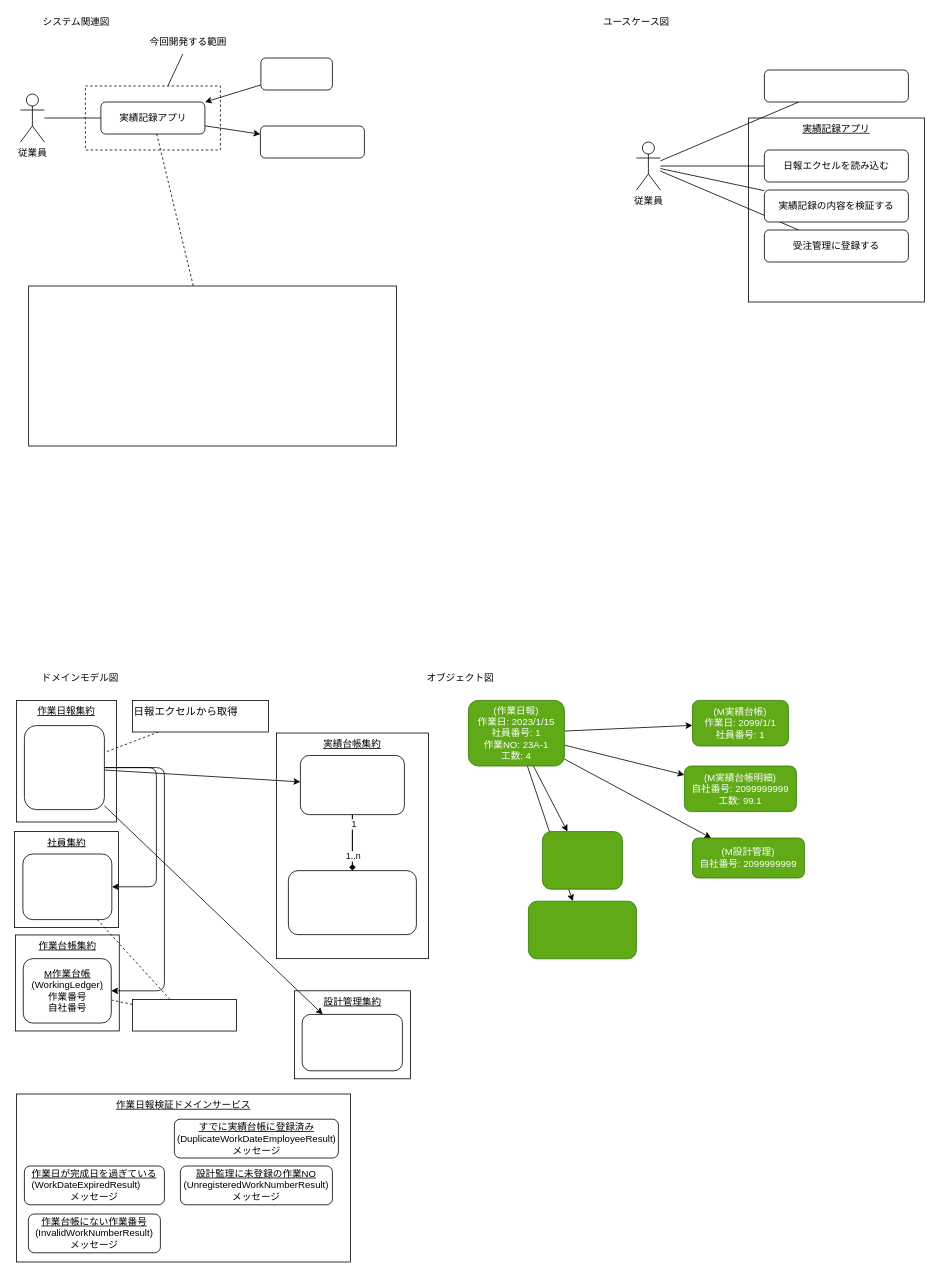
This 938x1276 diagram has some shape labels left out. Each missing label, with the centre of its shape:
"(M作業台帳) 作業番号: 99X-1 自社番号: 2099999999" belongs at (582,929).
"(S社員) 社員番号: 1 部署ID: 1 実績工程ID: 1" belongs at (582,860).
"M実績台帳 (AchievementLedger ) 作業日 社員番号" belongs at (352,785).
"M実績台帳明細 (AchievementDetail ) 自社番号 工数" belongs at (352,902).
"M設計管理 ( DesignManagement ) 自社番号" belongs at (351,1042).
"S社員 ( Employee ) 社員番号 部署ID 実績工程ID" belongs at (67,886).
"クエリ用のモデル" belongs at (184,1015).
"作業日報 ( WorkRecord ) 作業日 社員番号 作業NO 工数" belongs at (64,767).
"受注管理データベース" belongs at (312,141).
"日報エクセル" belongs at (296,73).
"日報エクセルを作成する" belongs at (836,85).
"解決したい課題 ・日報の登録に受注管理(桐)が必要 ・実績取込機能は、Excel2010が要件でバージョンが古い ・現受注管理と同様の処理を模倣する" belongs at (212,365).
